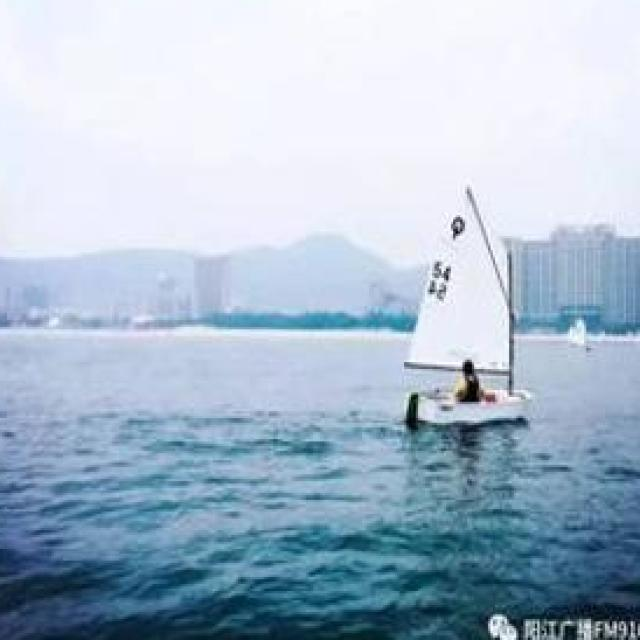sailboat: (390, 174, 538, 435)
